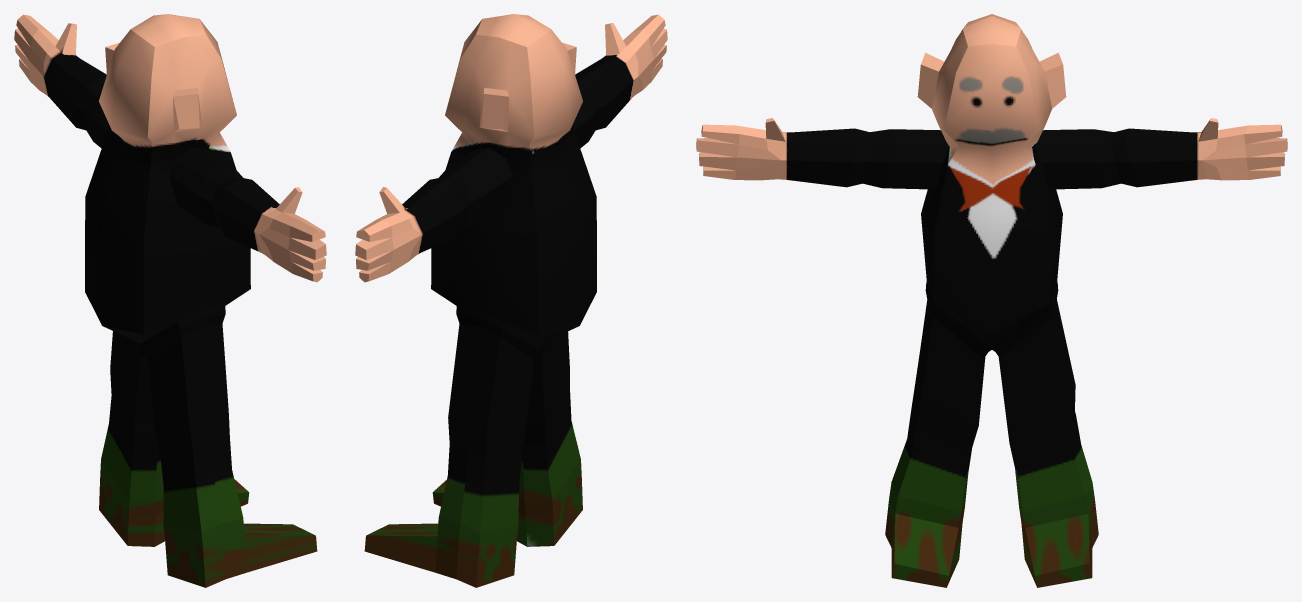
File: characterFar.FBX
3 views of the same model, side by side, from view 1: azimuth 30°, elevation 25°; view 2: azimuth 150°, elevation 25°; view 3: azimuth 270°, elevation 25° (orthographic).
Parts seen in each view (by area): view 1: characterFar; view 2: characterFar; view 3: characterFar.
Boxes of the visible parts, x1=… form: characterFar: x1=14, y1=14, x2=326, y2=587; characterFar: x1=355, y1=14, x2=667, y2=587; characterFar: x1=696, y1=14, x2=1287, y2=587.
Bounding box in the file's own units: 63.57 × 196 × 196.
1 material, 1 textured.
